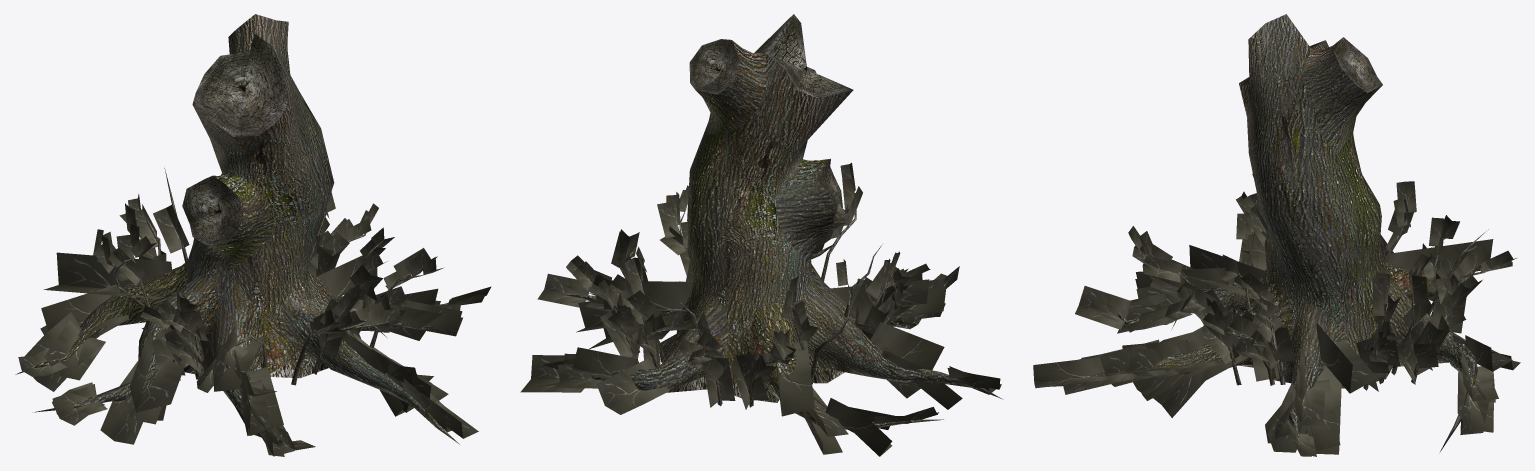
The model's file is treeStumpCasilla06.obj.
3 renders of one model, left to right at view 1: azimuth 30°, elevation 25°; view 2: azimuth 150°, elevation 25°; view 3: azimuth 270°, elevation 25°, orthographic.
Parts seen in each view (by area): view 1: SM_ag_tree_broken; view 2: SM_ag_tree_broken; view 3: SM_ag_tree_broken.
Part boxes in pixels (box(x1,y1,x2,y2)): SM_ag_tree_broken: box(15, 14, 491, 456); SM_ag_tree_broken: box(520, 14, 1003, 456); SM_ag_tree_broken: box(1033, 14, 1520, 456).
Size of the model in its own units: 228 by 173 by 212.
Materials: 3 (3 with a texture image).
